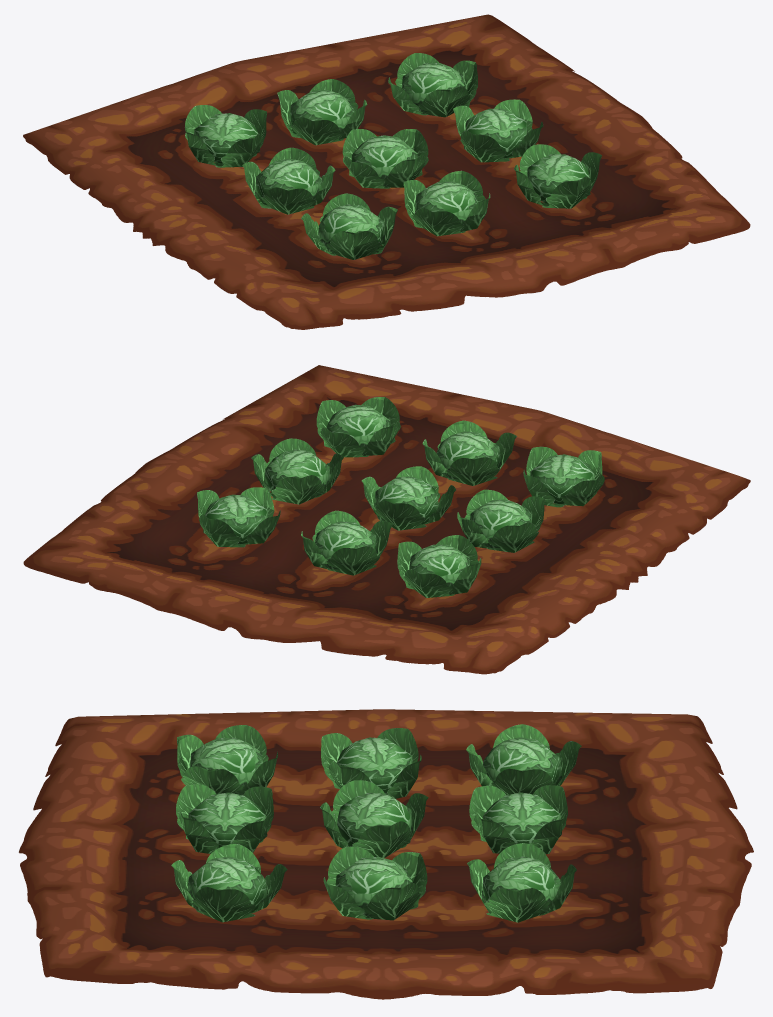
The model's file is Cabbage_Field_Green_Lv2.FBX.
3 renders of one model, top to bottom at view 1: azimuth 30°, elevation 25°; view 2: azimuth 150°, elevation 25°; view 3: azimuth 270°, elevation 25°, orthographic. The views are drawn at different scales.
Parts seen in each view (by area): view 1: Cabbage_Field_Green_Lv2; view 2: Cabbage_Field_Green_Lv2; view 3: Cabbage_Field_Green_Lv2.
Part boxes in pixels (<box>): Cabbage_Field_Green_Lv2: <box>23,14,750,329</box>; Cabbage_Field_Green_Lv2: <box>23,365,750,674</box>; Cabbage_Field_Green_Lv2: <box>18,709,753,999</box>.
Bounding box in the file's own units: 274 × 24.92 × 296.
